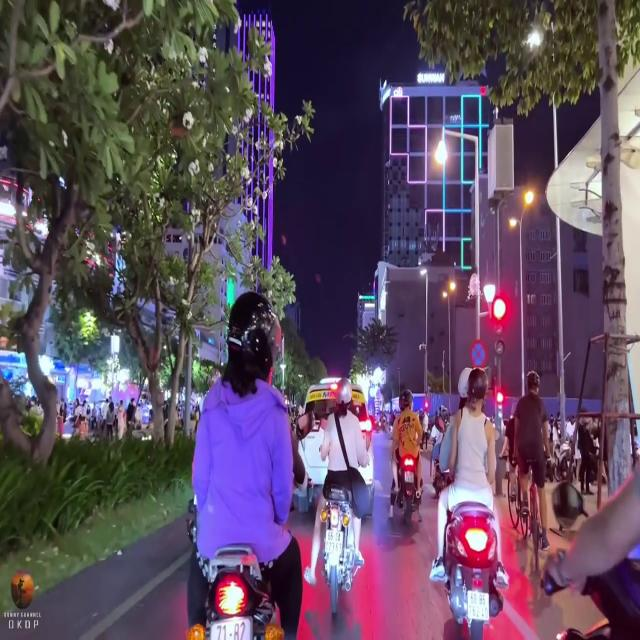bien_trang: (203, 614, 251, 640), (466, 584, 490, 622), (326, 526, 344, 558)
